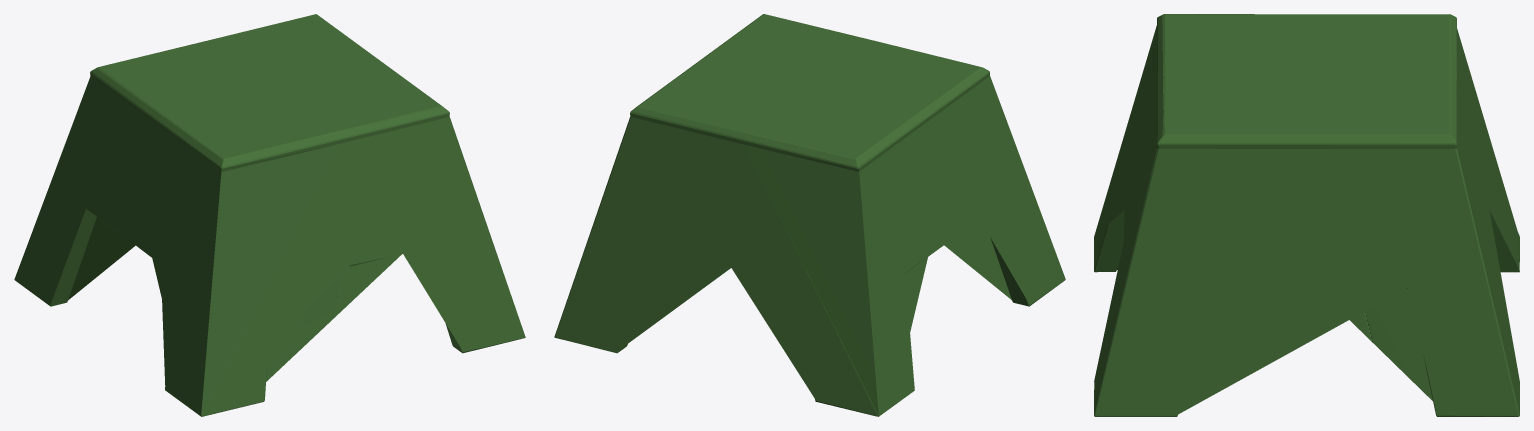
Rendered from Small Chair_LOD1.fbx.
3 views of the same model, side by side, from view 1: azimuth 30°, elevation 25°; view 2: azimuth 150°, elevation 25°; view 3: azimuth 270°, elevation 25° (orthographic). The views are drawn at different scales.
Visible parts, largest first — view 1: Small Chair; view 2: Small Chair; view 3: Small Chair.
Boxes of the visible parts, box(x1,y1,x2,y2) form: Small Chair: box(14, 14, 525, 416); Small Chair: box(554, 14, 1065, 416); Small Chair: box(1094, 14, 1519, 416).
Bounding box in the file's own units: 246 × 161 × 246.
